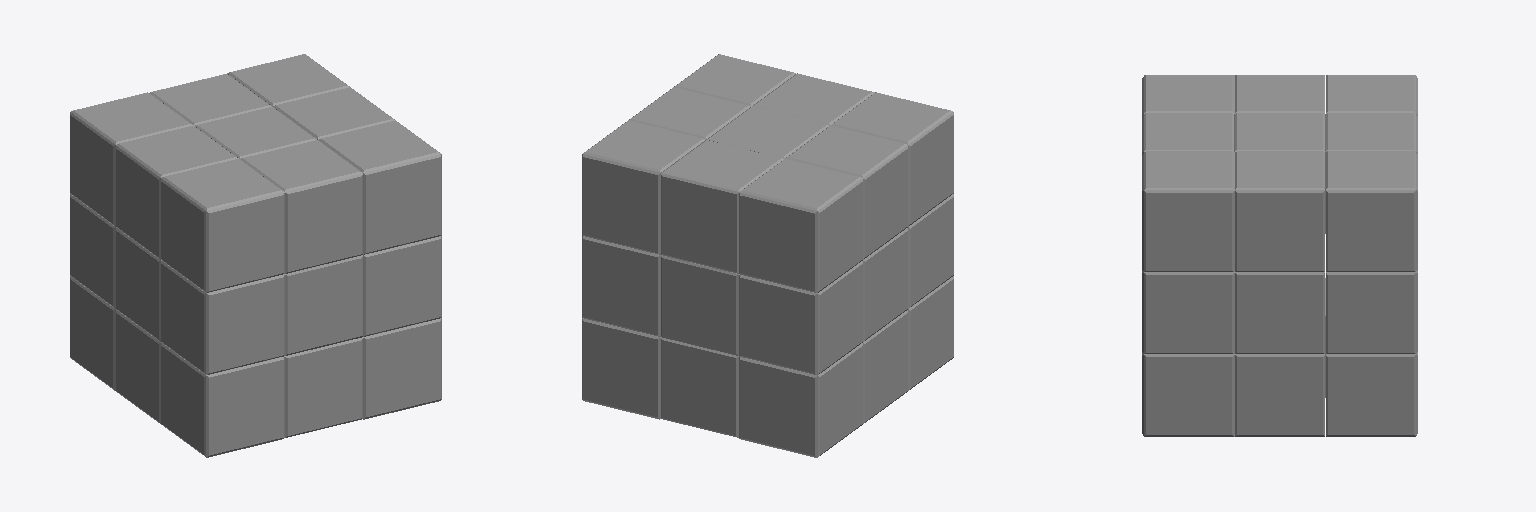
Rendered from rubics.obj.
The picture shows the model from 3 angles: view 1: azimuth 30°, elevation 25°; view 2: azimuth 150°, elevation 25°; view 3: azimuth 270°, elevation 25°; orthographic projection.
Parts seen in each view (by area): view 1: Cube.012_Cube.015, Cube.000_Cube.012, Cube.017_Cube.020, Cube.007, Cube.019_Cube.022, Cube.013_Cube.016, Cube.014_Cube.017, Cube.010, Cube.004, Cube.025_Cube.028, Cube.022_Cube.025, Cube.016_Cube.019 (+7 smaller); view 2: Cube.013_Cube.016, Cube.001_Cube.013, Cube.016_Cube.019, Cube.008, Cube.018_Cube.021, Cube.012_Cube.015, Cube.014_Cube.017, Cube.011, Cube.003, Cube.024_Cube.027, Cube.023_Cube.026, Cube.000_Cube.012 (+7 smaller); view 3: Cube.007, Cube.008, Cube.006, Cube.010, Cube.011, Cube.004, Cube.003, Cube.009, Cube.005, Cube.018_Cube.021, Cube.012_Cube.015, Cube.013_Cube.016 (+3 smaller).
Boxes of the visible parts, box(x1,y1,x2,y2) form: Cube.012_Cube.015: box(161, 159, 284, 292); Cube.000_Cube.012: box(161, 343, 284, 457); Cube.017_Cube.020: box(161, 260, 284, 374); Cube.007: box(319, 120, 441, 254); Cube.019_Cube.022: box(240, 140, 362, 273); Cube.013_Cube.016: box(70, 92, 193, 226); Cube.014_Cube.017: box(116, 126, 238, 259); Cube.010: box(363, 318, 441, 419); Cube.004: box(363, 236, 441, 336); Cube.025_Cube.028: box(285, 255, 362, 355); Cube.022_Cube.025: box(285, 337, 362, 437); Cube.016_Cube.019: box(70, 194, 115, 308); Cube.013_Cube.016: box(739, 159, 862, 292); Cube.001_Cube.013: box(739, 343, 862, 457); Cube.016_Cube.019: box(739, 261, 862, 375); Cube.008: box(582, 120, 704, 254); Cube.018_Cube.021: box(661, 140, 783, 273); Cube.012_Cube.015: box(830, 92, 953, 226); Cube.014_Cube.017: box(785, 126, 907, 259); Cube.011: box(582, 318, 660, 419); Cube.003: box(582, 236, 660, 336); Cube.024_Cube.027: box(661, 255, 738, 355); Cube.023_Cube.026: box(661, 337, 738, 437); Cube.000_Cube.012: box(908, 276, 953, 390); Cube.007: box(1142, 151, 1234, 271); Cube.008: box(1326, 151, 1417, 271); Cube.006: box(1235, 151, 1324, 271); Cube.010: box(1142, 352, 1234, 436); Cube.011: box(1326, 352, 1417, 436); Cube.004: box(1142, 270, 1234, 353); Cube.003: box(1326, 270, 1417, 353); Cube.009: box(1235, 354, 1324, 436); Cube.005: box(1235, 272, 1324, 353); Cube.018_Cube.021: box(1325, 113, 1417, 233); Cube.012_Cube.015: box(1142, 75, 1234, 151); Cube.013_Cube.016: box(1326, 75, 1417, 115).
Size of the model in its own units: 3.03 by 3.05 by 3.05.